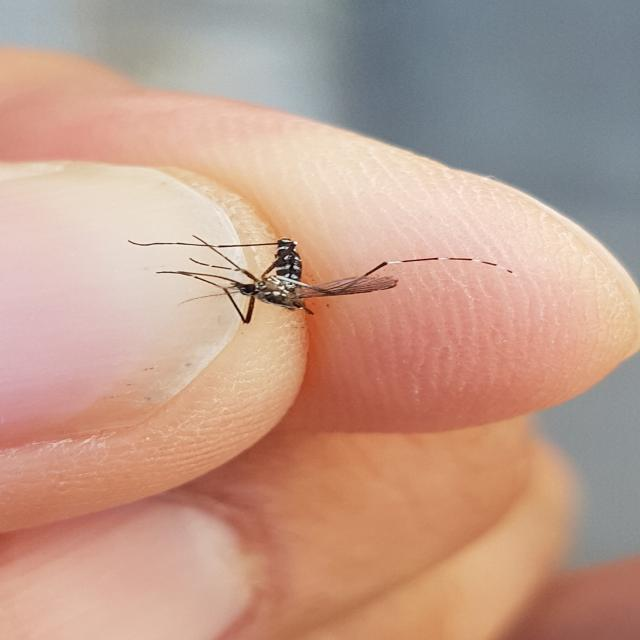albopictus: (142, 224, 502, 327)
